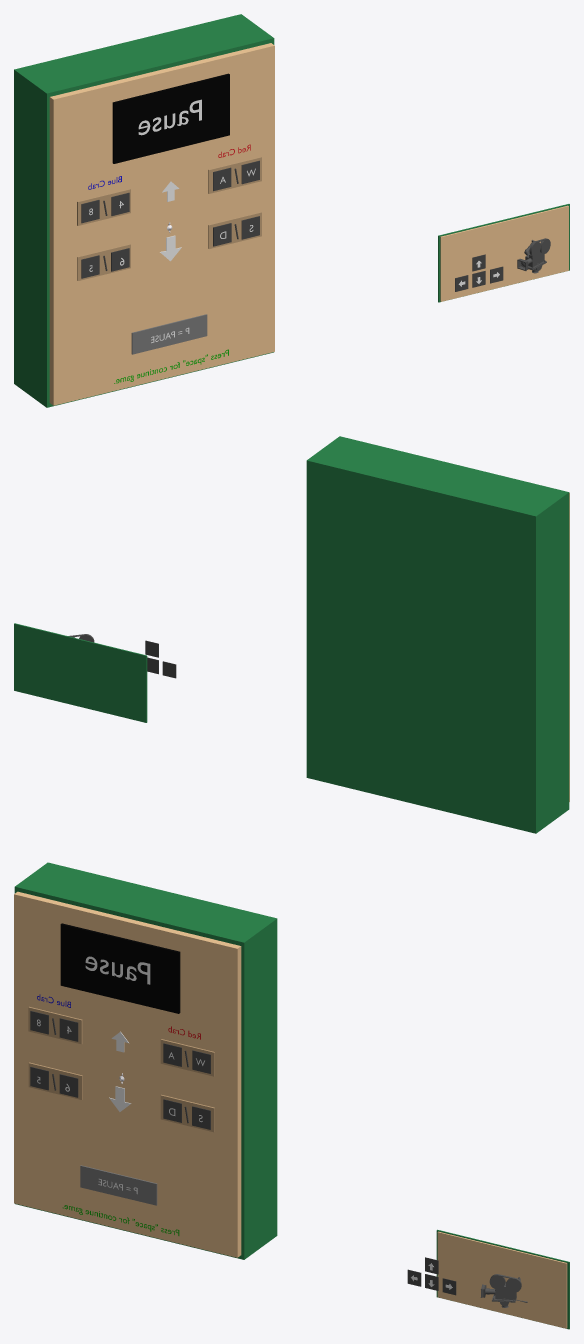
The model's file is MenuPauseSansCrabmehameha.glb.
3 views of the same model, one above another, from view 1: azimuth 30°, elevation 25°; view 2: azimuth 150°, elevation 25°; view 3: azimuth 330°, elevation 25° (orthographic).
Visible parts, largest first — view 1: Cube.002, Cube.003, Cube.010, Cube, Cube.001, rivetTR, Cube.006, Cube.007, Cube.005, Cube.004, Cube.011, PauseTitre; view 2: Cube.003, Cube.011; view 3: Cube.002, Cube.003, Cube.010, Cube, Cube.001, rivetTR, Cube.006, Cube.005, Cube.007, Cube.004, Cube.011.
Part boxes in pixels (left/top/right/bottom): Cube.002: left=49, top=43, right=274, bottom=405; Cube.003: left=14, top=14, right=274, bottom=407; Cube.010: left=440, top=205, right=568, bottom=301; Cube: left=112, top=73, right=229, bottom=163; Cube.001: left=131, top=314, right=207, bottom=354; rivetTR: left=517, top=238, right=550, bottom=273; Cube.006: left=77, top=188, right=130, bottom=225; Cube.007: left=77, top=244, right=130, bottom=280; Cube.005: left=208, top=157, right=261, bottom=193; Cube.004: left=208, top=212, right=261, bottom=248; Cube.011: left=438, top=204, right=569, bottom=302; PauseTitre: left=138, top=99, right=201, bottom=135; Cube.003: left=306, top=436, right=569, bottom=833; Cube.011: left=14, top=623, right=147, bottom=722; Cube.002: left=14, top=891, right=241, bottom=1257; Cube.003: left=14, top=862, right=277, bottom=1259; Cube.010: left=437, top=1231, right=567, bottom=1328; Cube: left=60, top=923, right=180, bottom=1013; Cube.001: left=80, top=1165, right=157, bottom=1205; rivetTR: left=480, top=1274, right=527, bottom=1307; Cube.006: left=28, top=1006, right=82, bottom=1044; Cube.005: left=160, top=1039, right=214, bottom=1076; Cube.007: left=28, top=1062, right=82, bottom=1099; Cube.004: left=160, top=1094, right=214, bottom=1132; Cube.011: left=436, top=1229, right=569, bottom=1329.
Size of the model in its own units: 62.82 by 35.53 by 9.
